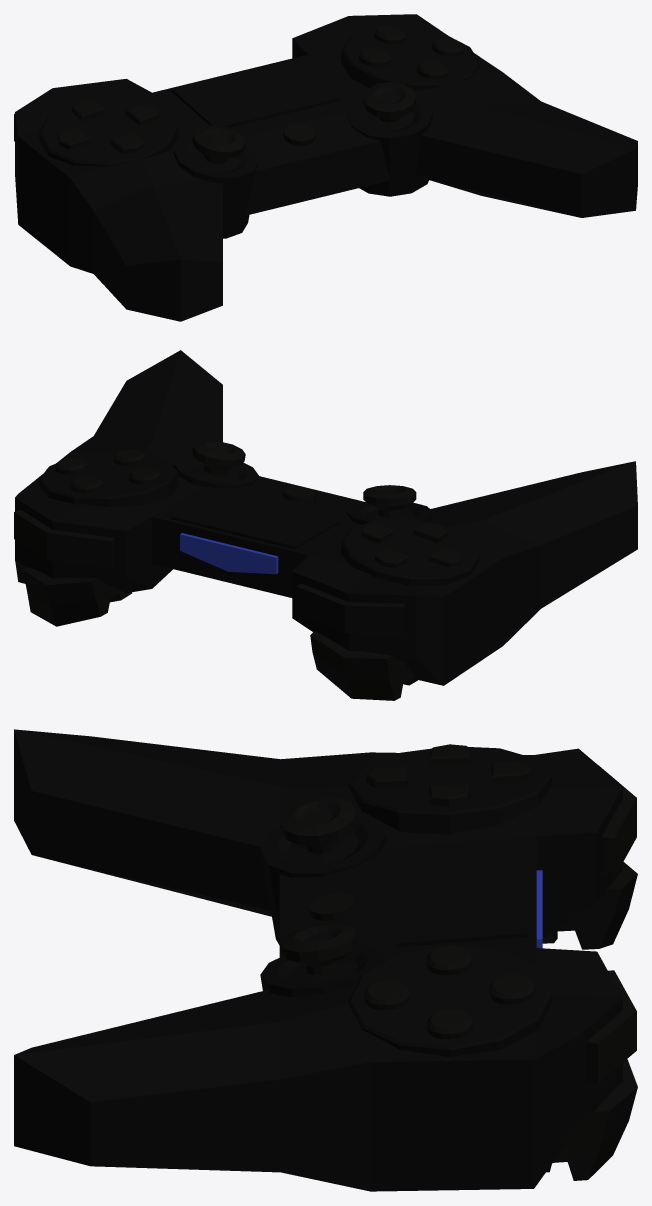
Rendered from Controller.obj.
The picture shows the model from 3 angles, top to bottom: view 1: azimuth 30°, elevation 25°; view 2: azimuth 150°, elevation 25°; view 3: azimuth 270°, elevation 25°; orthographic projection. The views are drawn at different scales.
Visible parts, largest first — view 1: Cube; view 2: Cube; view 3: Cube.
Part boxes in pixels (left/top/right/bottom): Cube: left=14, top=14, right=637, bottom=321; Cube: left=14, top=350, right=637, bottom=700; Cube: left=14, top=729, right=637, bottom=1191.
Size of the model in its own units: 6.56 by 1.51 by 4.73.
